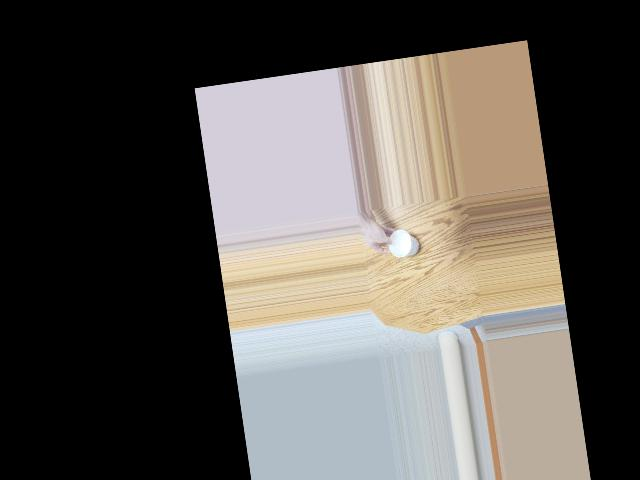cotage: (382, 227, 417, 261)
